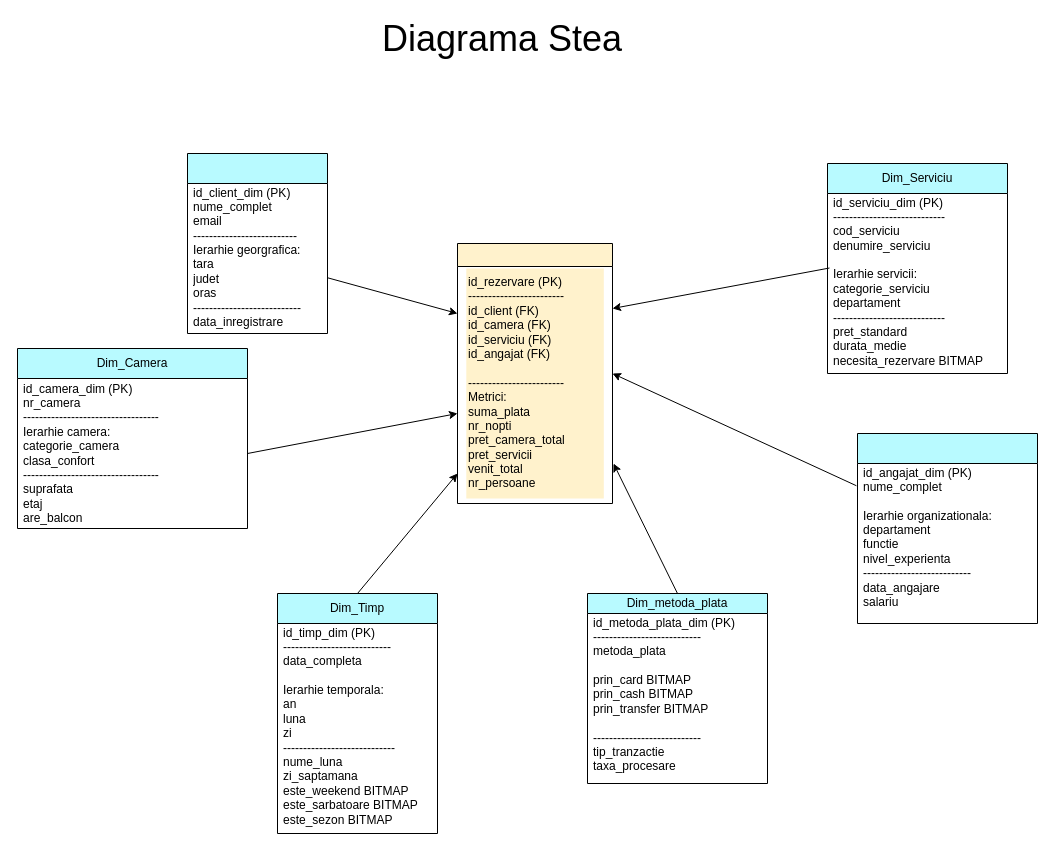
The diagram is 1055 pixels wide and 851 high, and some of its shapes have lost their labels. Here are the shapes that lost their labels. From the top down, the box of each, then its label:
(186, 152, 328, 334): Dim_Client
(456, 242, 612, 504): FACT_REZERVARE
(856, 432, 1038, 624): Dim_angajat
